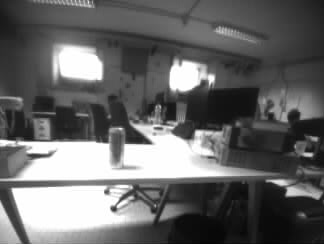Tin can: (110, 127, 124, 167)
